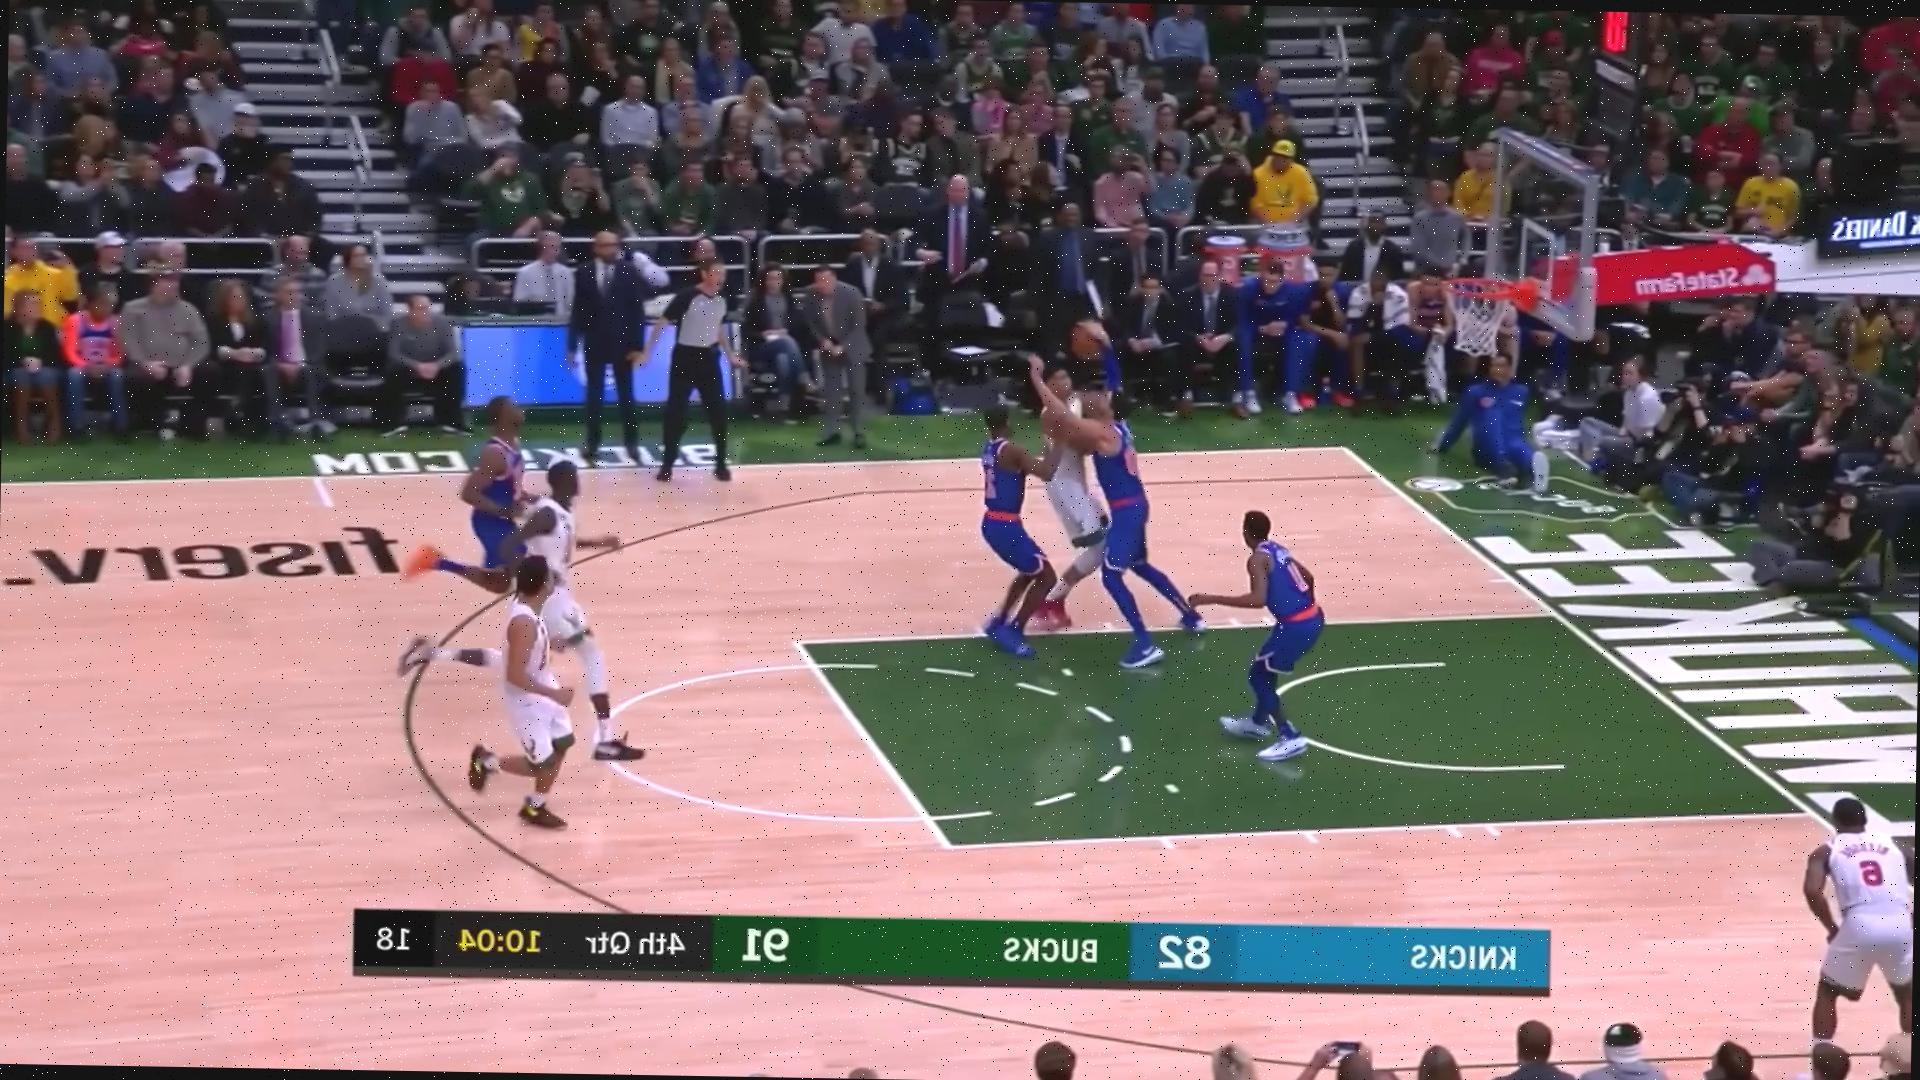foul: (951, 345, 1195, 662)
